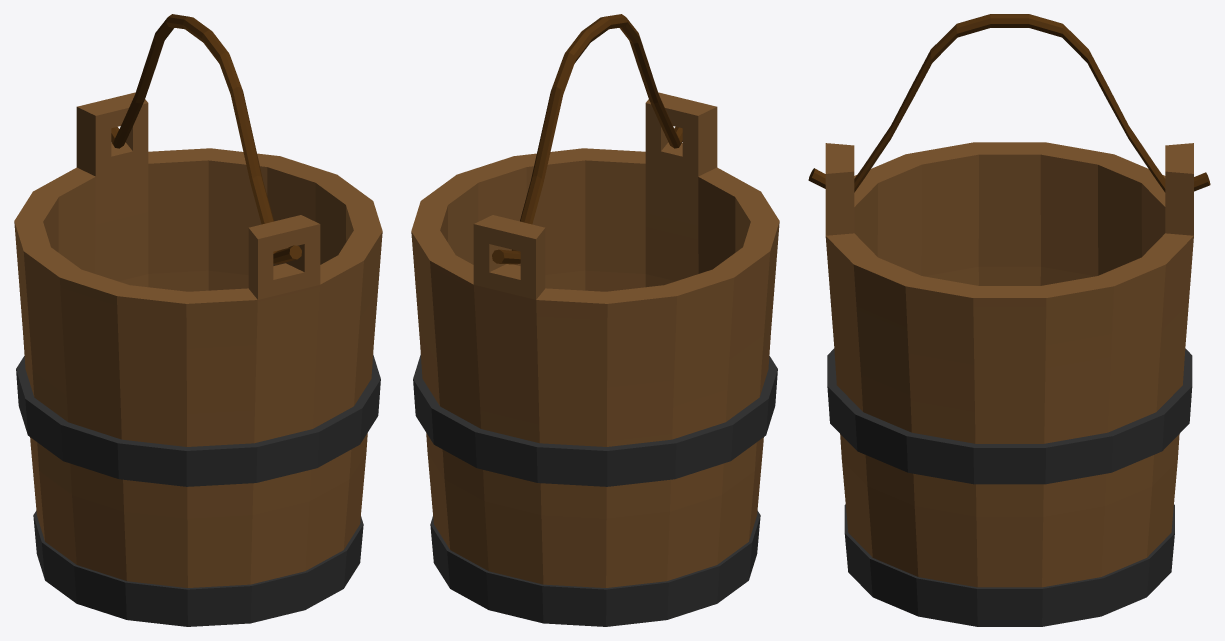
File: bucket.fbx
The picture shows the model from 3 angles, left to right: view 1: azimuth 30°, elevation 25°; view 2: azimuth 150°, elevation 25°; view 3: azimuth 270°, elevation 25°; orthographic projection.
Visible parts, largest first — view 1: bucket; view 2: bucket; view 3: bucket.
Part boxes in pixels (x1,y1,x2,y2): bucket: (14, 14, 382, 626); bucket: (411, 14, 779, 626); bucket: (808, 14, 1210, 626).
Size of the model in its own units: 196 by 320 by 214.
